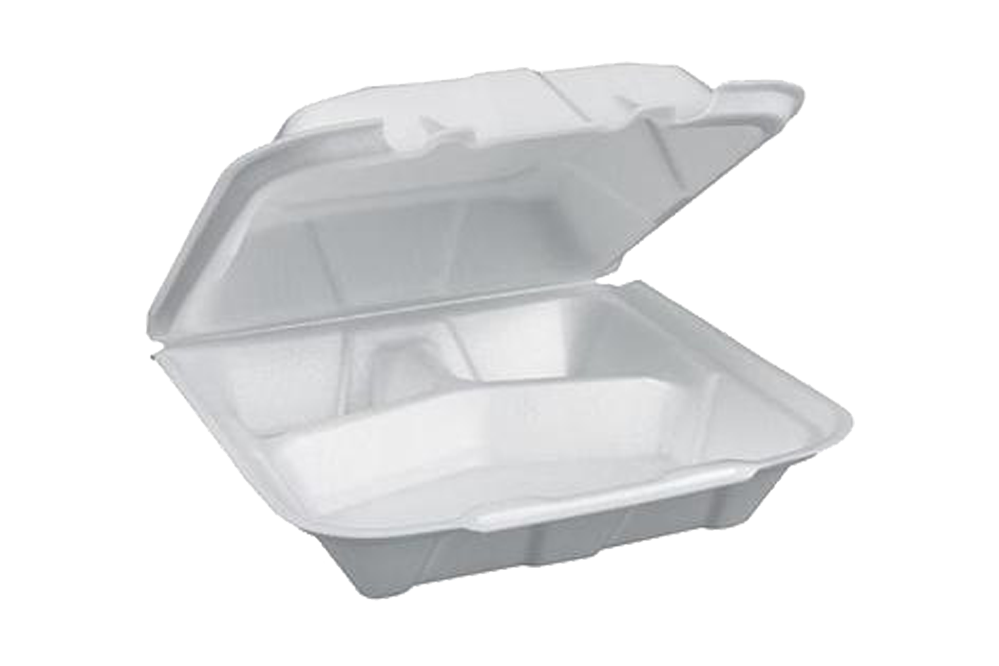styrofoam: (142, 55, 863, 605)
